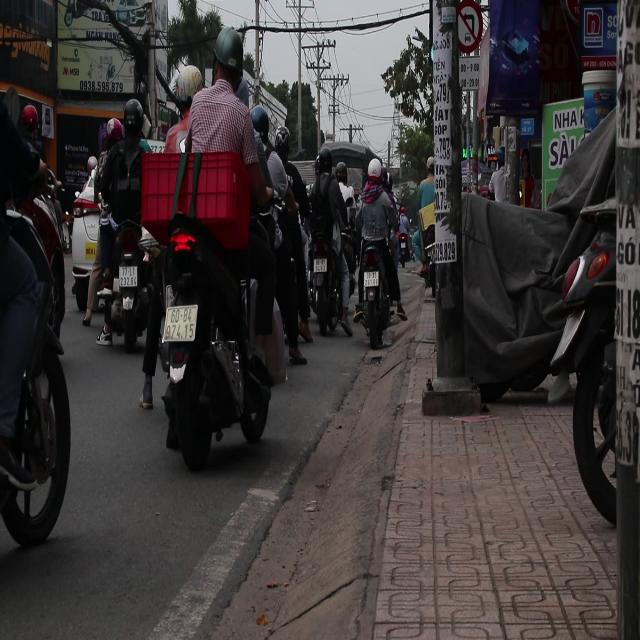motorbike: (150, 215, 270, 465), (91, 219, 164, 358), (305, 177, 355, 344), (361, 241, 392, 352)
